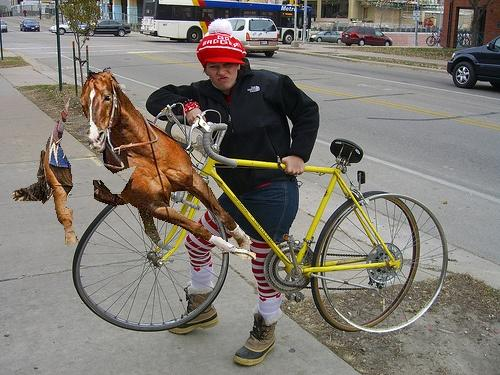tampered: (13, 68, 256, 259)
